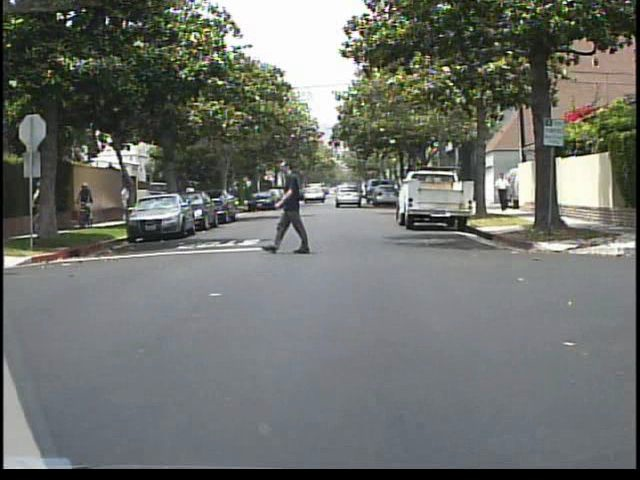person: (261, 156, 322, 258), (33, 178, 59, 236), (492, 170, 513, 214), (182, 178, 200, 216), (77, 177, 100, 205)
